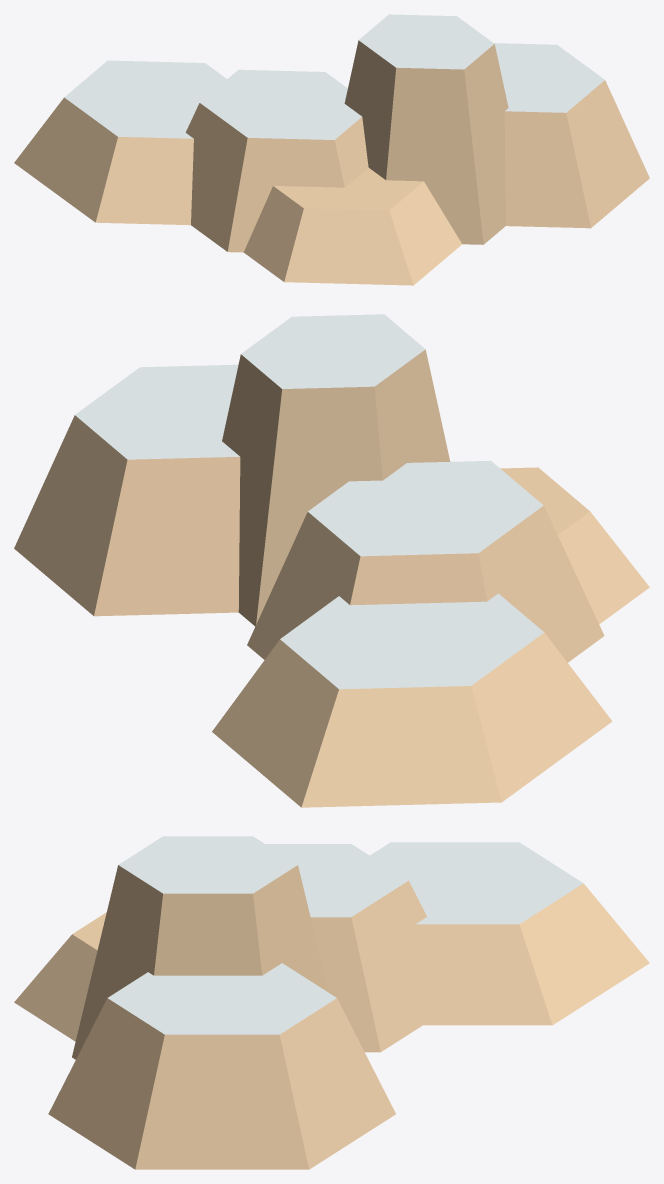
The model's file is snow_detail_dirt.glb.
The picture shows the model from 3 angles, top to bottom: view 1: azimuth 30°, elevation 25°; view 2: azimuth 150°, elevation 25°; view 3: azimuth 270°, elevation 25°; orthographic projection. The views are drawn at different scales.
Parts seen in each view (by area): view 1: snow_detail_dirt; view 2: snow_detail_dirt; view 3: snow_detail_dirt.
Boxes of the visible parts, x1,y1,x2,y2 form: snow_detail_dirt: (14, 14, 649, 285); snow_detail_dirt: (14, 314, 649, 807); snow_detail_dirt: (14, 836, 649, 1169).
Size of the model in its own units: 0.6 by 0.2003 by 0.6.
